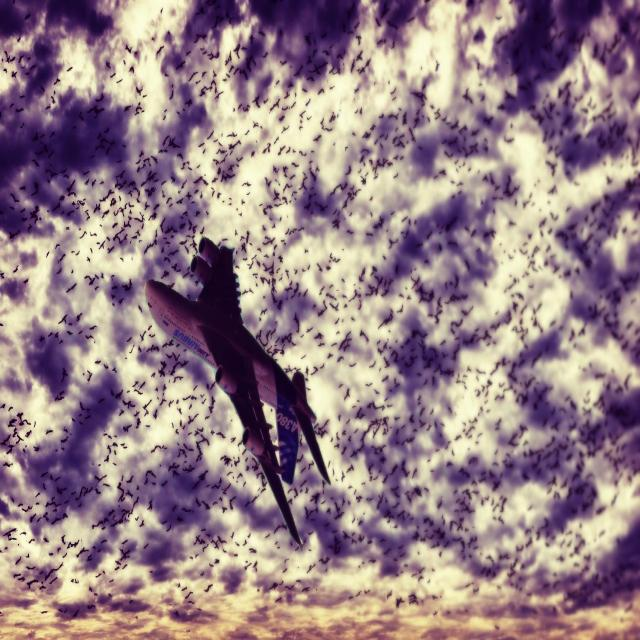airplane: (144, 235, 331, 548)
